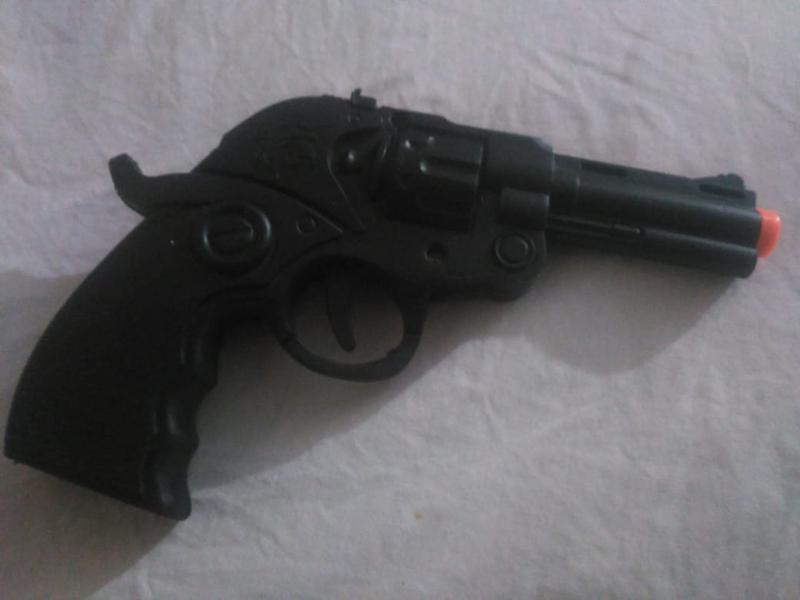gun: (4, 81, 796, 540)
